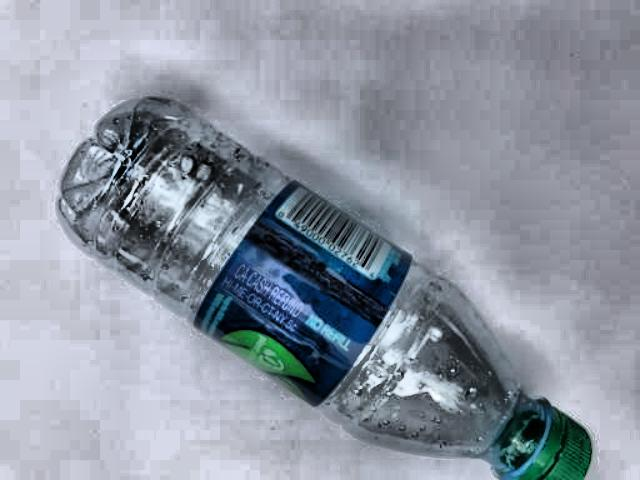Bottles: (40, 78, 598, 474)
